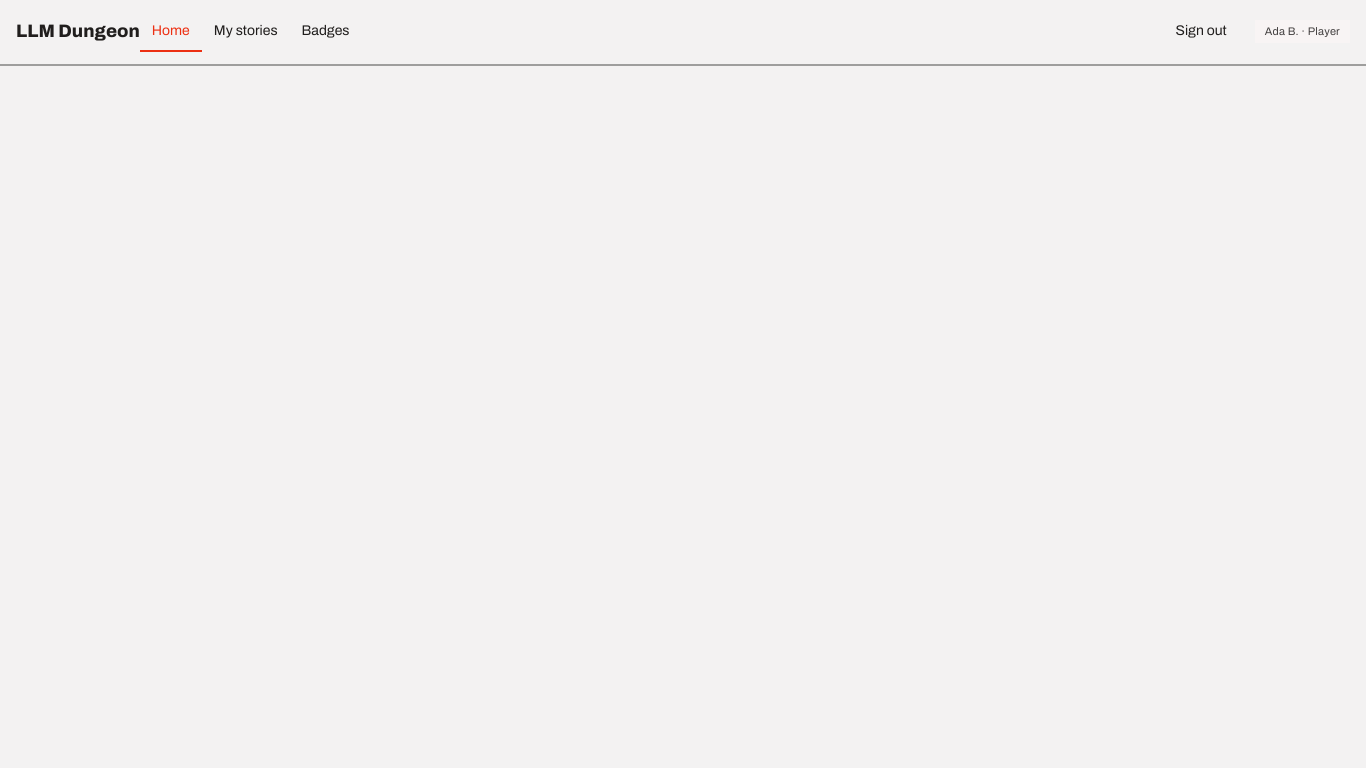
Scenario: NavBar sign-out save prompt (009-save-and-continue, FR-004, research.md Decision 6) › a failed checkpoint still completes the sign-out with the failure notice rendered (FR-006a)
The image size is (1366, 768).
Click the link "Sign out" at (1201, 30), box [1176,23,1227,38]
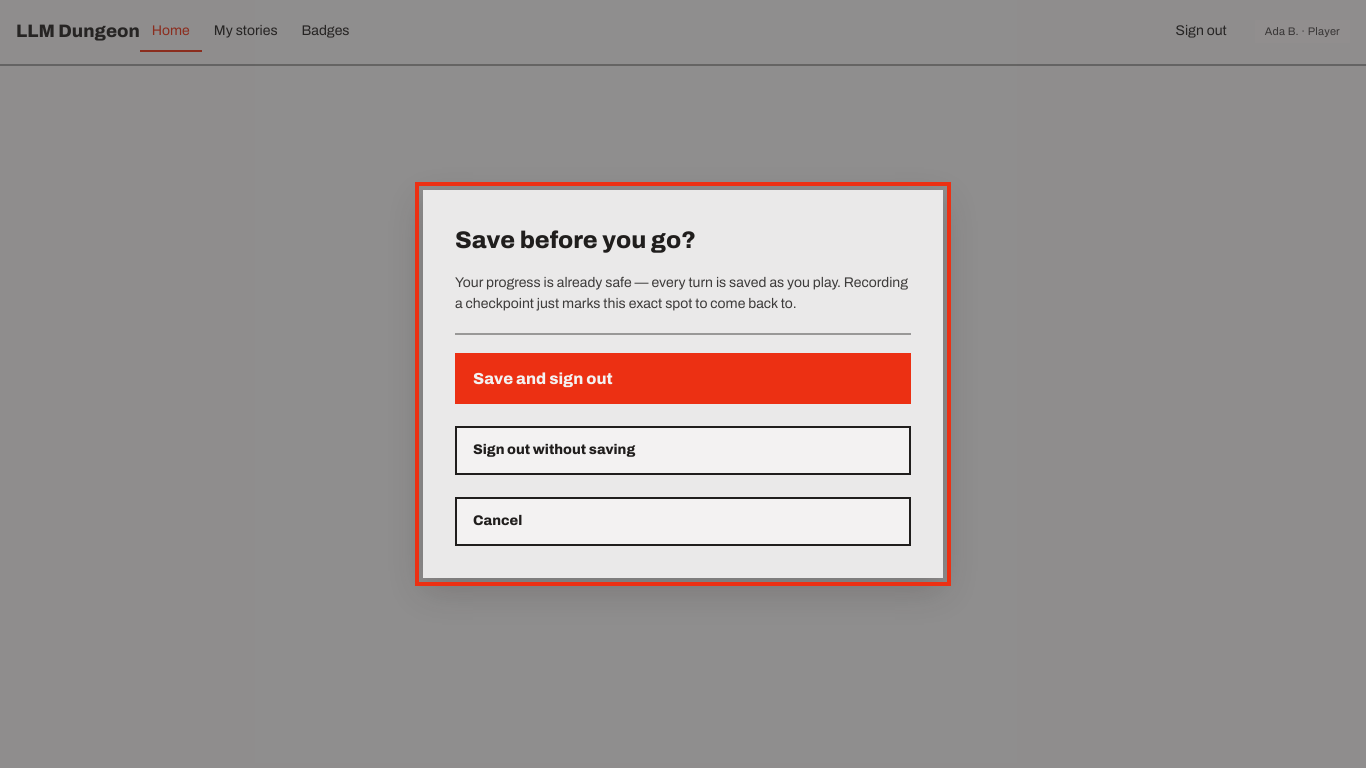
Now the dialog is shown, box [423,190,943,578]
Click the button "Save and sign out" at (543, 378), box [455,353,911,404]
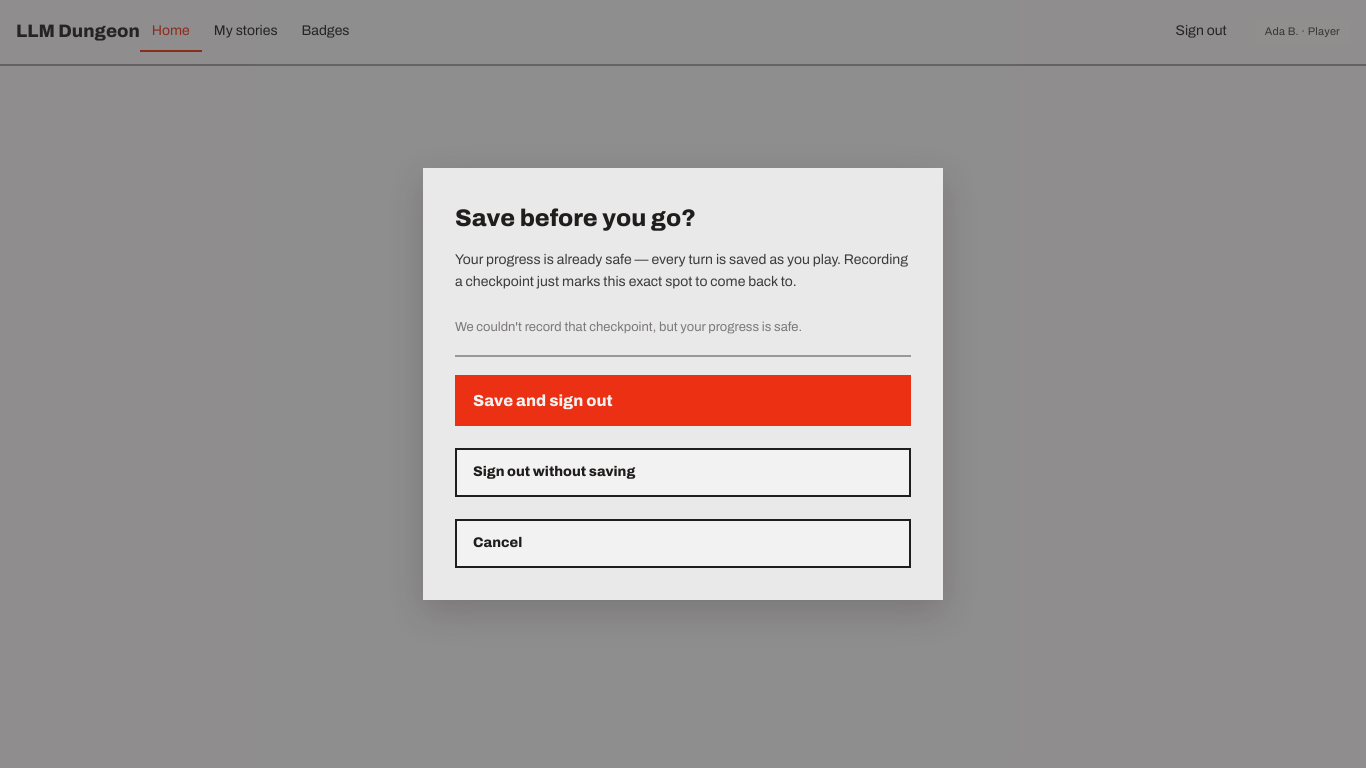
Now the message shows "couldn't record that checkpoint", box [455,320,802,334]
